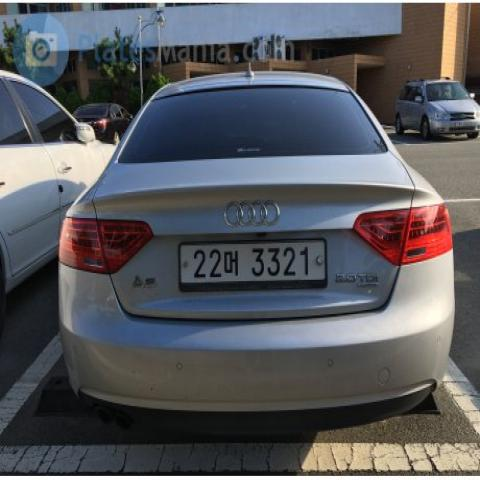LP: (163, 228, 340, 298)
